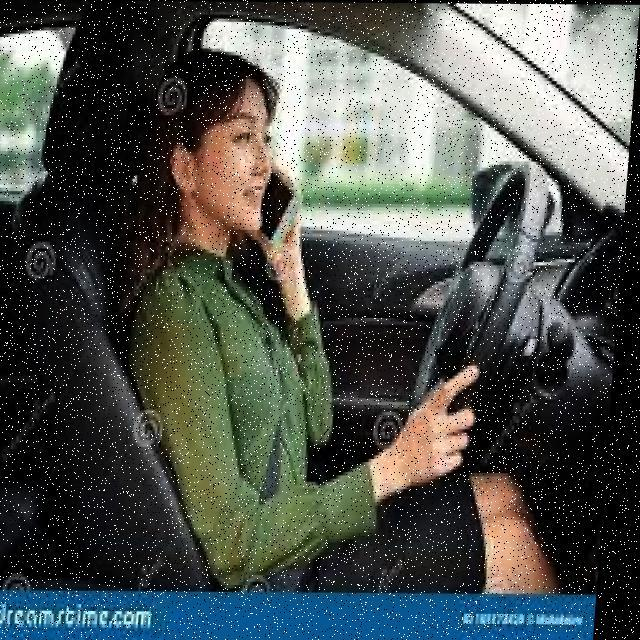seatbelt: (192, 242, 332, 558)
